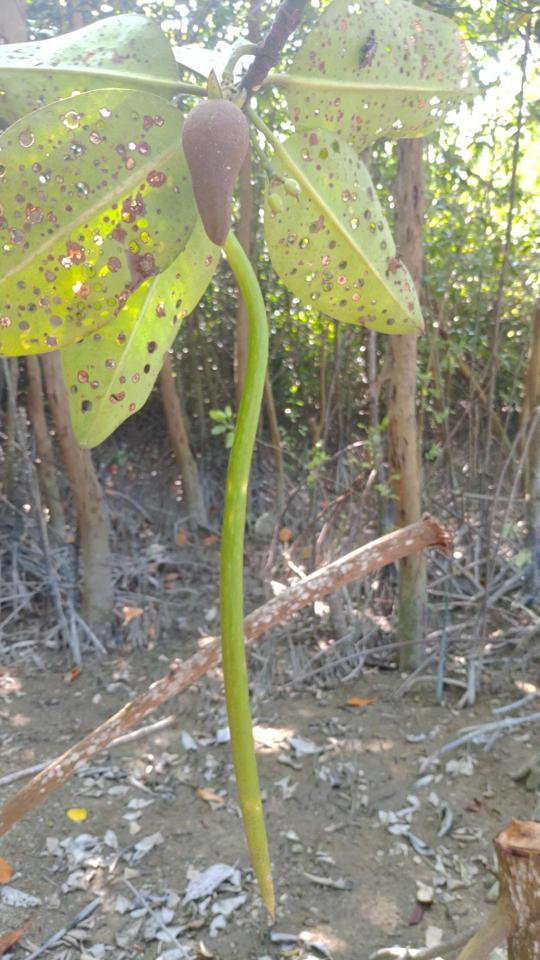mentah: (163, 51, 309, 937)
